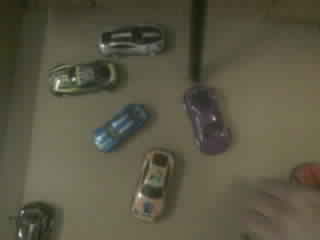Car: (184, 85, 228, 153), (132, 149, 174, 220), (96, 104, 148, 151), (50, 60, 117, 94), (98, 25, 164, 56), (19, 203, 51, 239)
